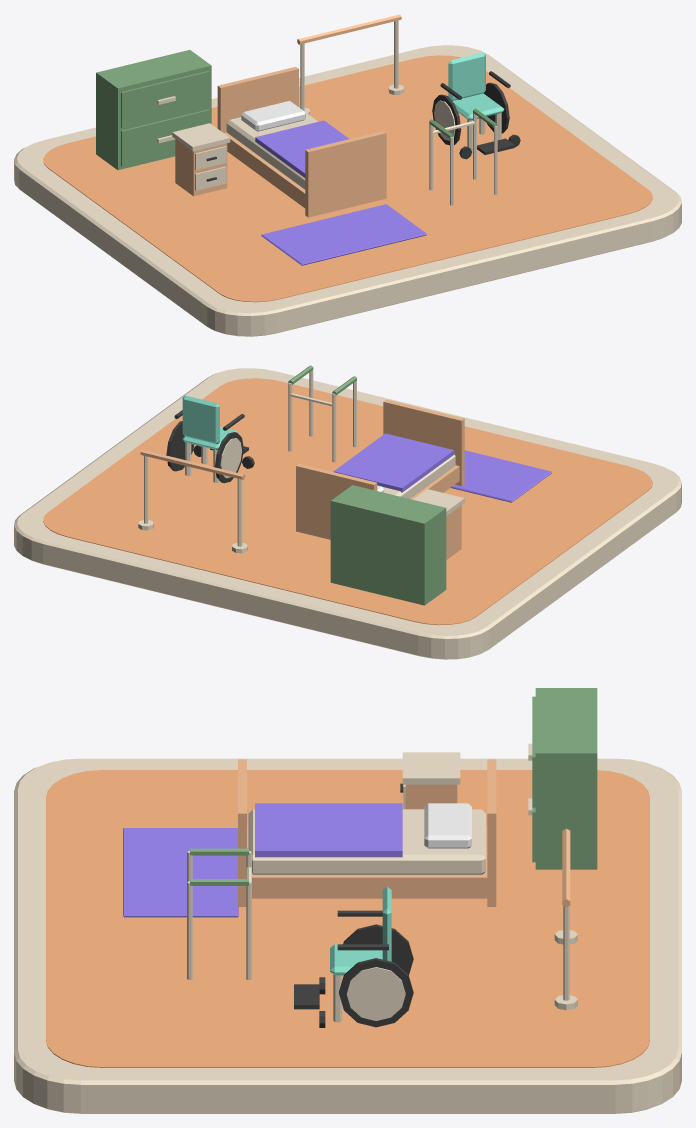
Rendered from room.fbx.
3 renders of one model, top to bottom at view 1: azimuth 30°, elevation 25°; view 2: azimuth 150°, elevation 25°; view 3: azimuth 270°, elevation 25°, orthographic. The views are drawn at different scales.
Visible parts, largest first — view 1: COM-02 Floor Surface, COM-01 Rounded Base Direct, Cabinet, End board, Rug, End board.001, Blanket, Mattress, Frame, Backrest, Body, Pillow (+7 smaller); view 2: COM-02 Floor Surface, COM-01 Rounded Base Direct, Cabinet, Blanket, End board, End board.001, Rug, Backrest, Mattress, Body, Handrail, Top (+4 smaller); view 3: COM-02 Floor Surface, COM-01 Rounded Base Direct, Cabinet, Rug, Blanket, Mattress, Frame, Push rim.001, Pillow, Top, Rear wheel.001, End board.001 (+8 smaller).
Part boxes in pixels (x1=…): COM-02 Floor Surface: x1=43, y1=55, x2=652, y2=302; COM-01 Rounded Base Direct: x1=14, y1=45, x2=681, y2=336; Cabinet: x1=96, y1=50, x2=211, y2=170; End board: x1=305, y1=131, x2=386, y2=217; Rug: x1=261, y1=204, x2=426, y2=265; End board.001: x1=217, y1=66, x2=298, y2=132; Blanket: x1=255, y1=120, x2=348, y2=177; Mattress: x1=226, y1=104, x2=318, y2=189; Frame: x1=224, y1=132, x2=305, y2=208; Backrest: x1=448, y1=52, x2=485, y2=100; Body: x1=175, y1=139, x2=227, y2=196; Pillow: x1=241, y1=101, x2=305, y2=131; COM-02 Floor Surface: x1=43, y1=378, x2=652, y2=625; COM-01 Rounded Base Direct: x1=14, y1=368, x2=681, y2=659; Cabinet: x1=330, y1=485, x2=446, y2=605; Blanket: x1=333, y1=433, x2=454, y2=492; End board: x1=383, y1=399, x2=464, y2=486; End board.001: x1=296, y1=463, x2=377, y2=539; Rug: x1=450, y1=450, x2=551, y2=502; Backrest: x1=182, y1=395, x2=219, y2=444; Mattress: x1=383, y1=454, x2=455, y2=498; Body: x1=446, y1=505, x2=461, y2=559; Handrail: x1=140, y1=449, x2=245, y2=479; Top: x1=413, y1=489, x2=464, y2=515; COM-02 Floor Surface: x1=46, y1=770, x2=649, y2=1067; COM-01 Rounded Base Direct: x1=14, y1=758, x2=681, y2=1113; Cabinet: x1=528, y1=688, x2=597, y2=869; Rug: x1=123, y1=828, x2=238, y2=917; Blanket: x1=255, y1=803, x2=402, y2=857; Mattress: x1=248, y1=809, x2=485, y2=874; Frame: x1=247, y1=826, x2=487, y2=898; Push rim.001: x1=346, y1=967, x2=405, y2=1020; Pillow: x1=424, y1=803, x2=471, y2=848; Top: x1=402, y1=752, x2=460, y2=784; Rear wheel.001: x1=339, y1=958, x2=413, y2=1027; End board.001: x1=487, y1=759, x2=496, y2=906.
Size of the model in its own units: 600 by 130 by 520.
